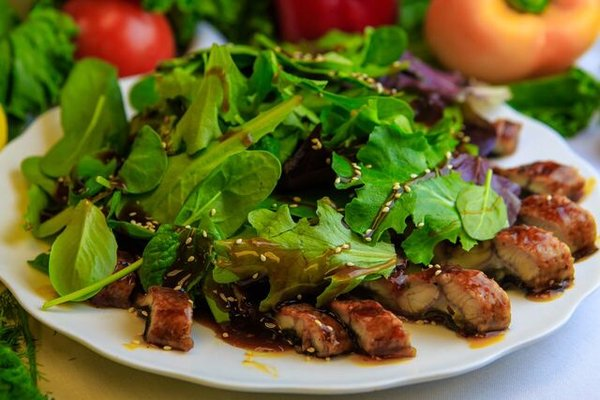curry: (0, 2, 79, 127)
steak: (72, 1, 178, 76)
